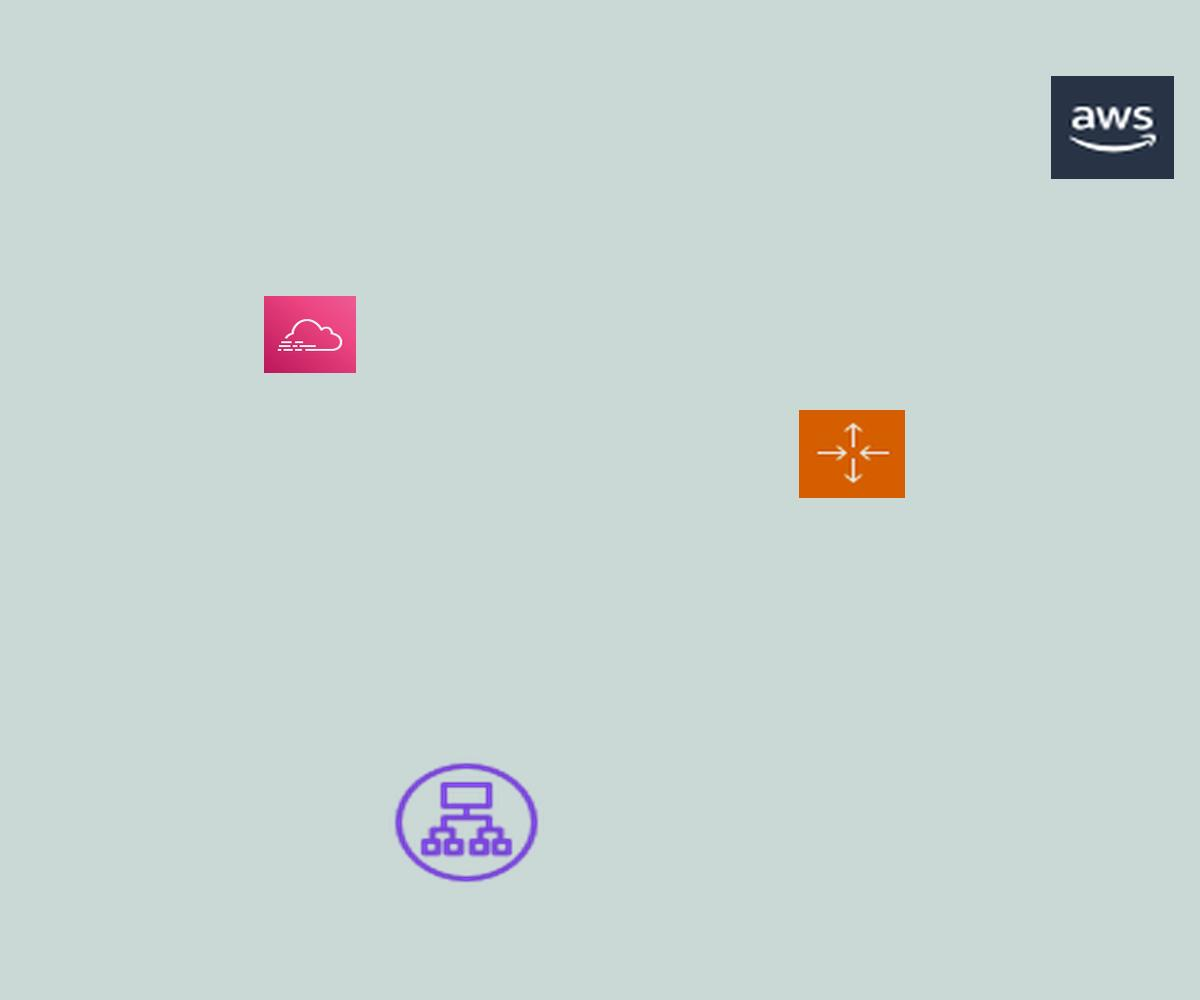AWS-Cloud-logo: (1051, 76, 1174, 179)
AWS-CloudTrail: (264, 296, 356, 373)
AWS-Res_Elastic-Load-Balancing_Application-Load-Balancer: (389, 758, 544, 887)
AWS-Scaling-group: (799, 410, 905, 498)
